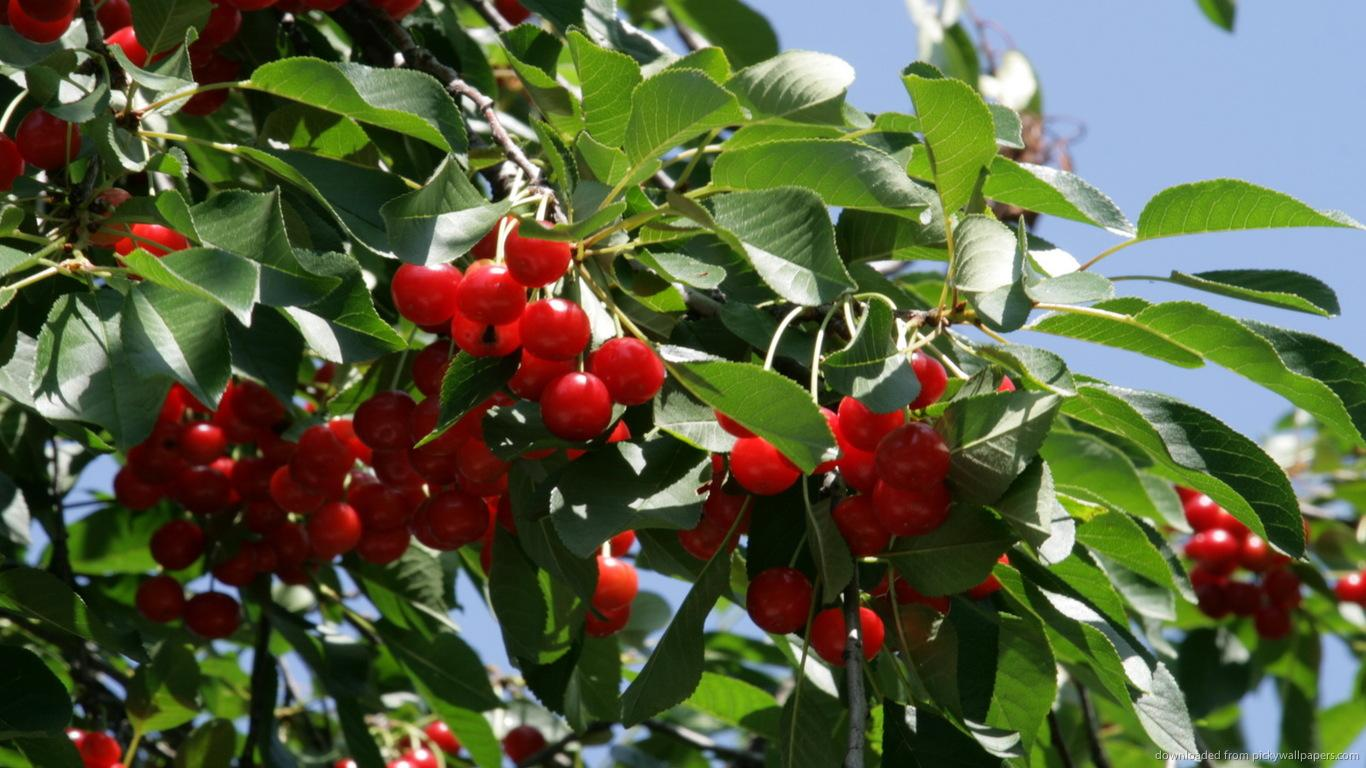Cherry leaf: (1050, 361, 1326, 574), (655, 164, 880, 328), (234, 54, 489, 184), (1103, 161, 1366, 275), (105, 253, 248, 432), (61, 270, 175, 475), (1160, 236, 1360, 334)
